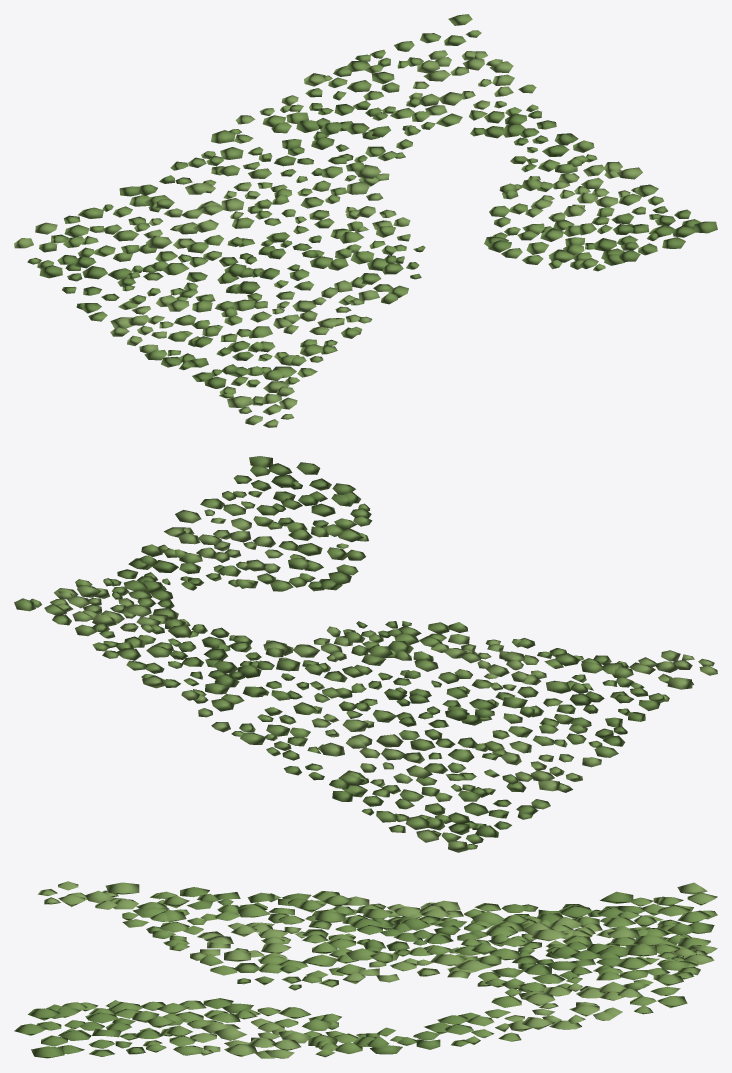
File: canopy-1--4-1.glb
3 renders of one model, top to bottom at view 1: azimuth 30°, elevation 25°; view 2: azimuth 150°, elevation 25°; view 3: azimuth 270°, elevation 25°, orthographic. The views are drawn at different scales.
Bounding box in the file's own units: 520 × 158 × 520.
1 material, 1 textured.
